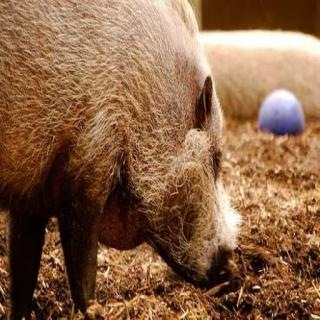Pig: (3, 0, 251, 312)
